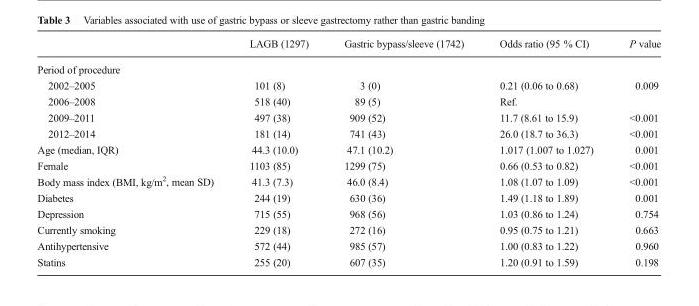table: (36, 37, 660, 267)
table column: (36, 37, 230, 267), (325, 37, 481, 267), (481, 37, 610, 267), (230, 37, 325, 267), (610, 37, 660, 267)
table column header: (36, 37, 660, 55)
table projected row header: (36, 55, 660, 76)
table row: (36, 55, 660, 76), (36, 37, 660, 55), (36, 92, 660, 109), (36, 172, 660, 189), (36, 76, 660, 92), (36, 109, 660, 125), (36, 125, 660, 141), (36, 141, 660, 157), (36, 189, 660, 205), (36, 205, 660, 221), (36, 221, 660, 237), (36, 237, 660, 253), (36, 157, 660, 172), (36, 253, 660, 267)
